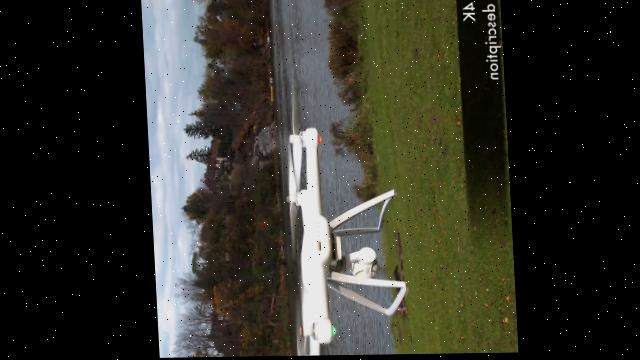drone: (267, 84, 349, 357)
